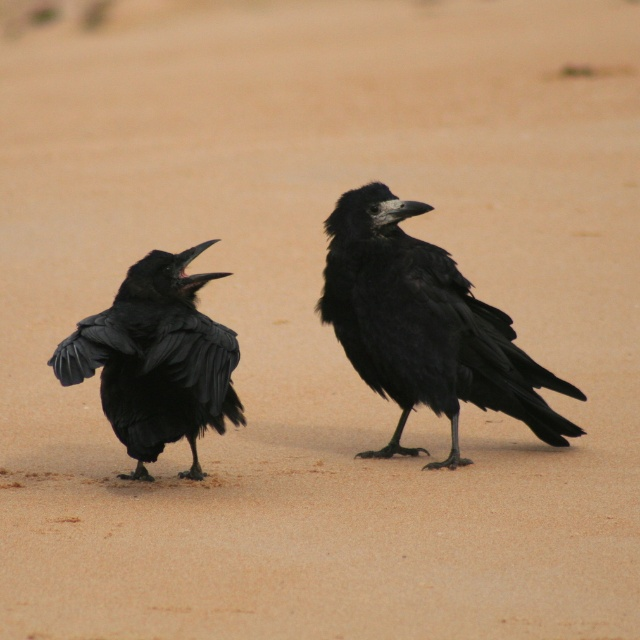Raven: (306, 178, 593, 473), (45, 235, 252, 496)
